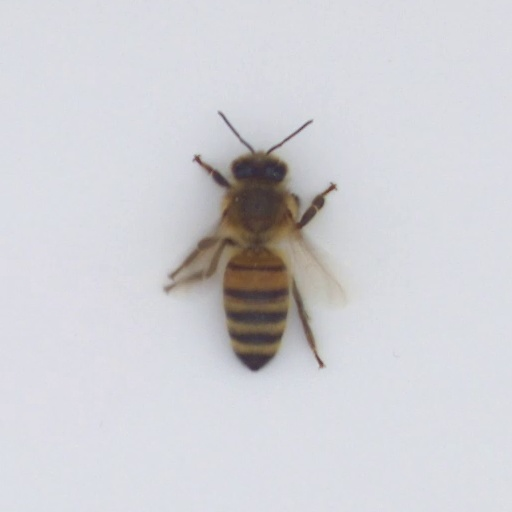Bee: (227, 151, 288, 366)
Thorax: (223, 183, 298, 237)
